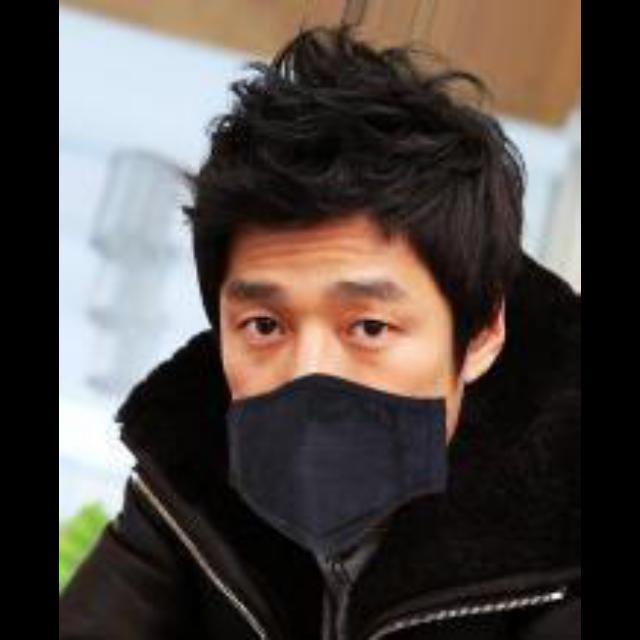suspicion: (143, 49, 539, 507)
